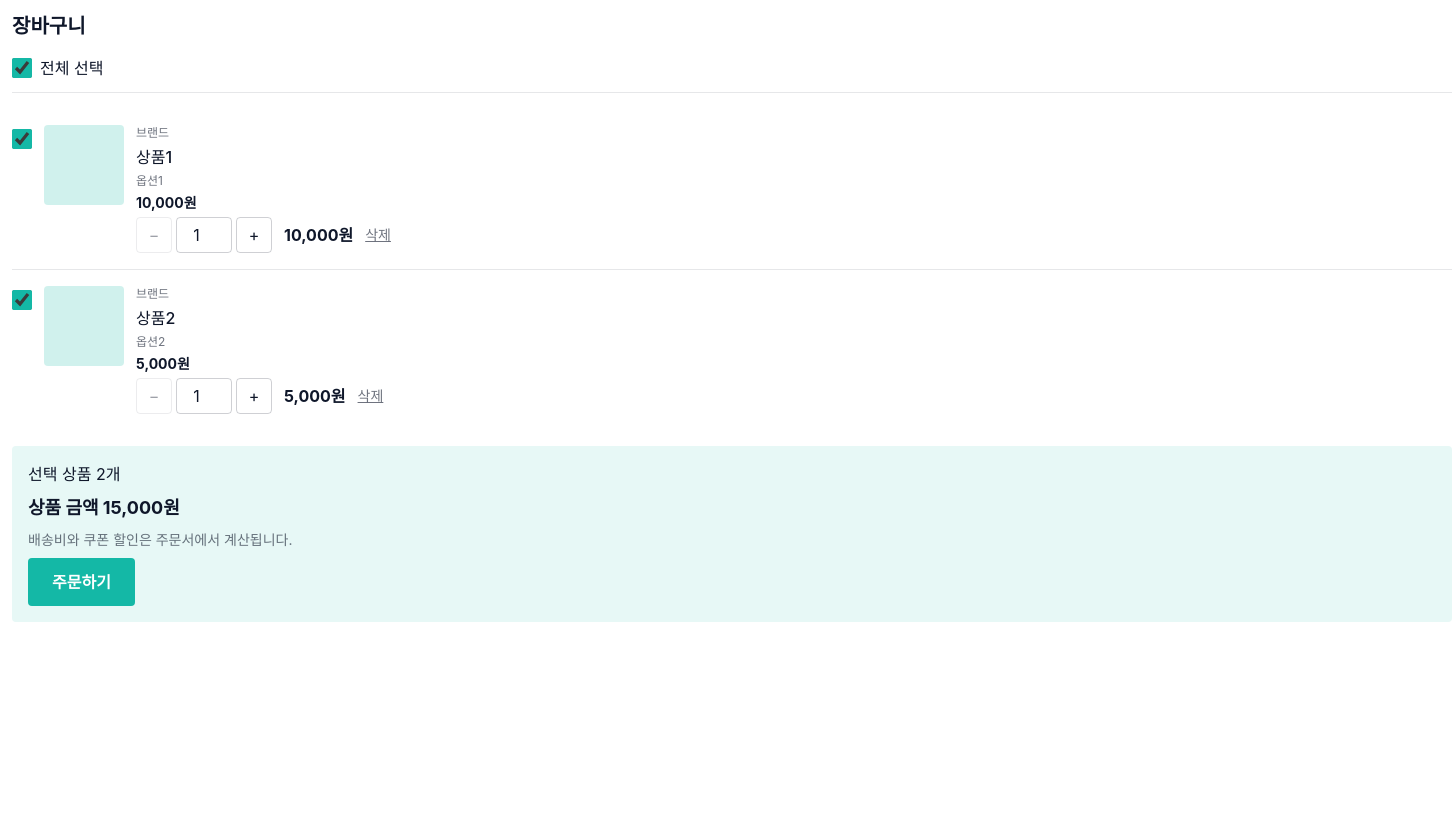
Test case: 삭제하면 목록에서 사라진다
This screenshot has width=1452, height=822.
Click the button "삭제" below "옵션1". click: [378, 235]
box: left=365, top=225, right=391, bottom=245
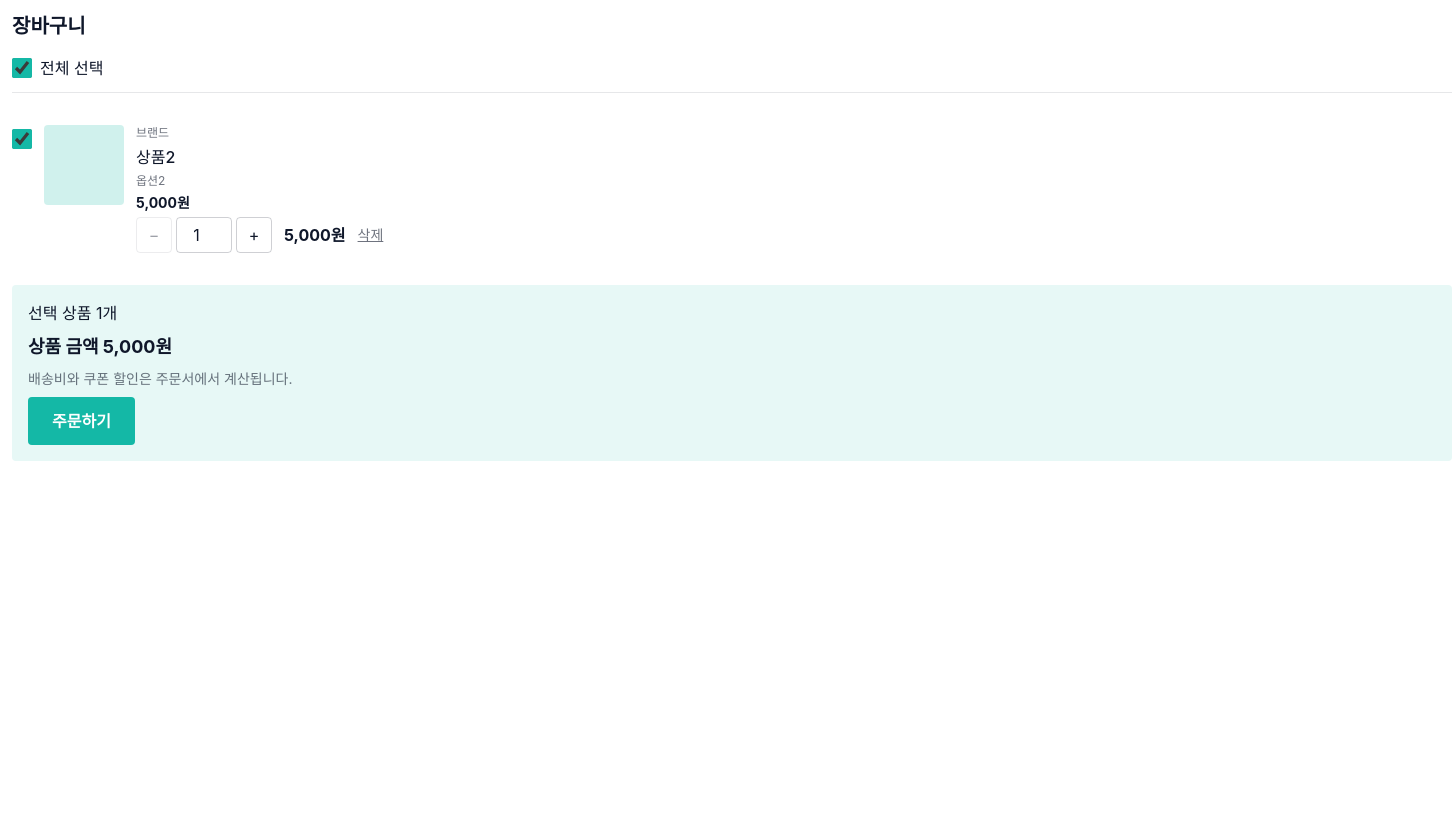
Check: the text "상품 금액 5,000원" is shown, box left=28, top=336, right=172, bottom=357
Check: the link "상품1" is gone
